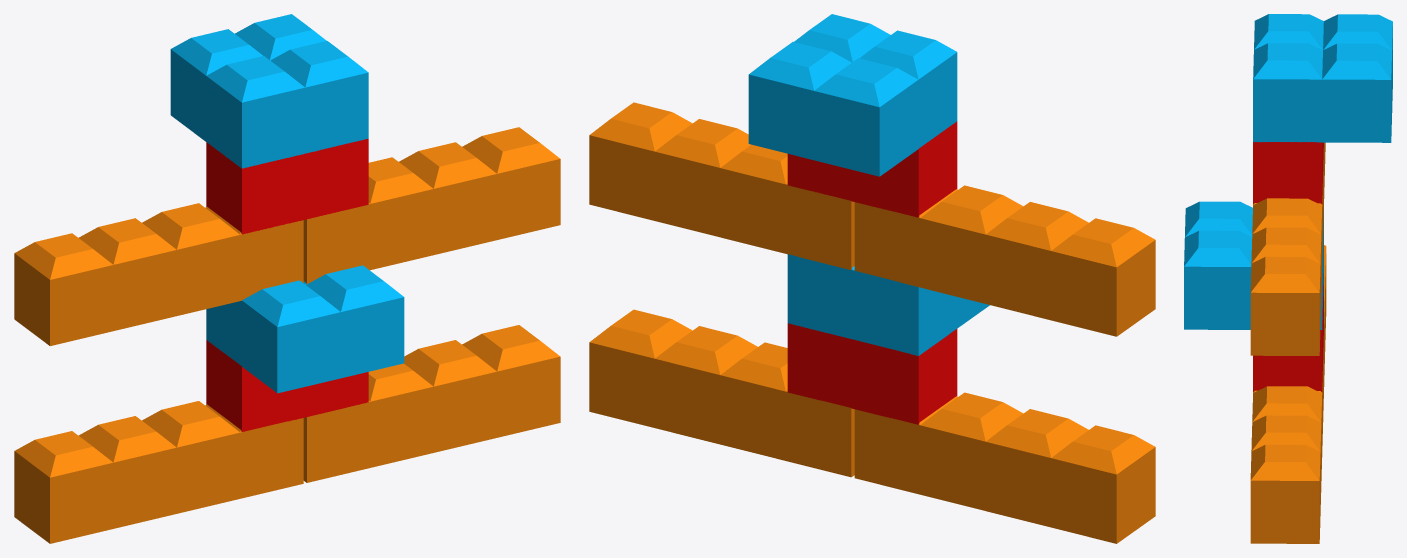
File: blocks_5.glb
3 renders of one model, left to right at view 1: azimuth 30°, elevation 25°; view 2: azimuth 150°, elevation 25°; view 3: azimuth 270°, elevation 25°, orthographic. The views are drawn at different scales.
Parts seen in each view (by area): view 1: Cube.004, Cube.017, Cube.023, Cube.012, Cube.014, Cube.007, Cube.006, Cube.013, Cube.015, Cube.002, Cube.019, Cube.020 (+15 smaller); view 2: Cube.004, Cube.017, Cube.024, Cube.007, Cube.014, Cube.025, Cube.019, Cube.015, Cube.002, Cube.001, Cube.006, Cube.020 (+14 smaller); view 3: Cube.002, Cube.019, Cube.025, Cube.022, Cube.013, Cube.026, Cube.009, Cube, Cube.021, Cube.001, Cube.020, Cube.024 (+2 smaller).
Part boxes in pixels (x1=…): Cube.004: x1=14, y1=431, x2=113, y2=543; Cube.017: x1=14, y1=233, x2=113, y2=345; Cube.023: x1=206, y1=56, x2=305, y2=168; Cube.012: x1=242, y1=280, x2=340, y2=393; Cube.014: x1=78, y1=218, x2=176, y2=330; Cube.007: x1=78, y1=416, x2=176, y2=528; Cube.006: x1=142, y1=401, x2=240, y2=513; Cube.013: x1=306, y1=265, x2=404, y2=378; Cube.015: x1=142, y1=203, x2=240, y2=315; Cube.002: x1=462, y1=325, x2=560, y2=437; Cube.019: x1=462, y1=127, x2=560, y2=239; Cube.020: x1=399, y1=142, x2=496, y2=254; Cube.004: x1=1051, y1=425, x2=1155, y2=543; Cube.017: x1=1051, y1=218, x2=1155, y2=336; Cube.024: x1=814, y1=58, x2=918, y2=176; Cube.007: x1=985, y1=409, x2=1088, y2=527; Cube.014: x1=985, y1=202, x2=1088, y2=320; Cube.025: x1=748, y1=41, x2=851, y2=160; Cube.019: x1=589, y1=102, x2=692, y2=220; Cube.015: x1=920, y1=185, x2=1023, y2=303; Cube.002: x1=589, y1=309, x2=692, y2=427; Cube.001: x1=655, y1=326, x2=757, y2=444; Cube.006: x1=920, y1=392, x2=1023, y2=510; Cube.020: x1=655, y1=119, x2=750, y2=237; Cube.002: x1=1250, y1=444, x2=1320, y2=543; Cube.019: x1=1250, y1=256, x2=1320, y2=355; Cube.025: x1=1322, y1=43, x2=1391, y2=142; Cube.022: x1=1253, y1=43, x2=1322, y2=142; Cube.013: x1=1184, y1=230, x2=1252, y2=329; Cube.026: x1=1253, y1=142, x2=1322, y2=204; Cube.009: x1=1253, y1=309, x2=1322, y2=392; Cube: x1=1252, y1=386, x2=1322, y2=480; Cube.021: x1=1252, y1=198, x2=1322, y2=292; Cube.001: x1=1251, y1=415, x2=1321, y2=504; Cube.020: x1=1251, y1=227, x2=1321, y2=316; Cube.024: x1=1323, y1=14, x2=1392, y2=112.
Size of the model in its own units: 7.57 by 5.83 by 2.84.
